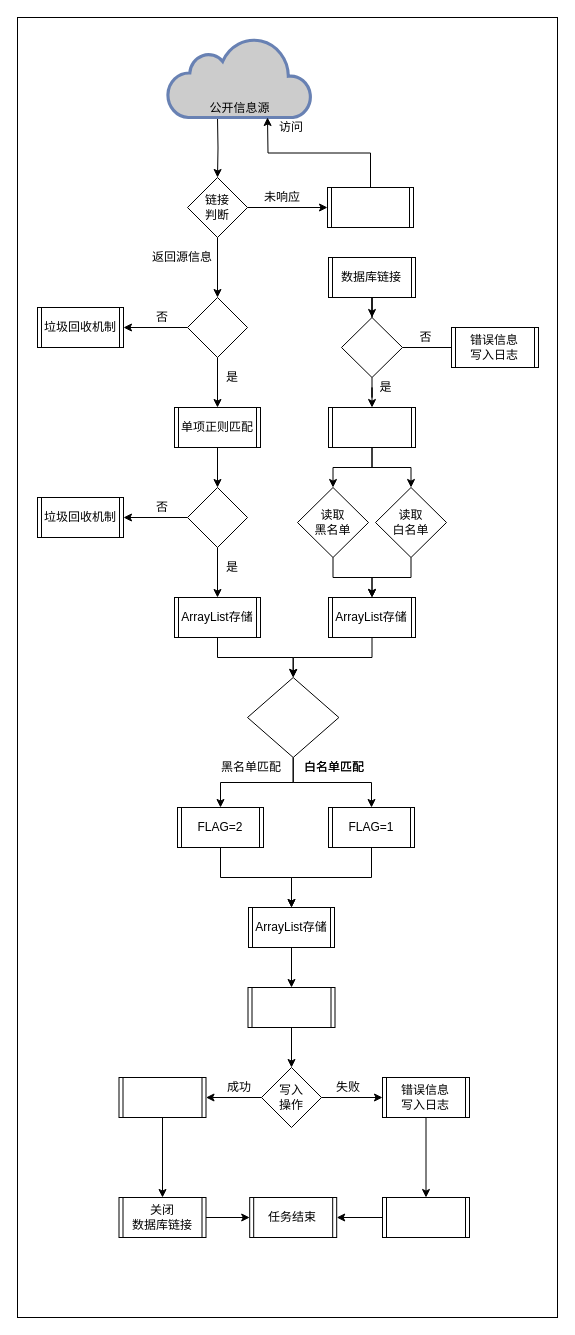
The diagram is 575 pixels wide and 1335 high, and some of its shapes have lost their labels. The box of each missing label's shape, as (x1, y1, x2, y2) in pixels:
URL链接: (326, 186, 414, 228)
强制关闭 数据库链接: (382, 1196, 470, 1238)
循环 单项匹配: (246, 676, 339, 758)
操作细节 写入日志: (118, 1076, 206, 1118)
数据写入 数据库: (247, 986, 335, 1028)
数据库读取: (328, 406, 416, 448)
是否 匹配: (186, 486, 248, 548)
是否 成功: (340, 316, 402, 378)
是否 需要: (186, 296, 248, 358)
